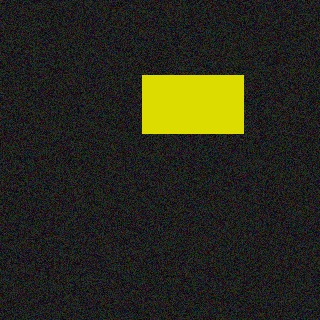yellow_barrel: (143, 76, 244, 134)
